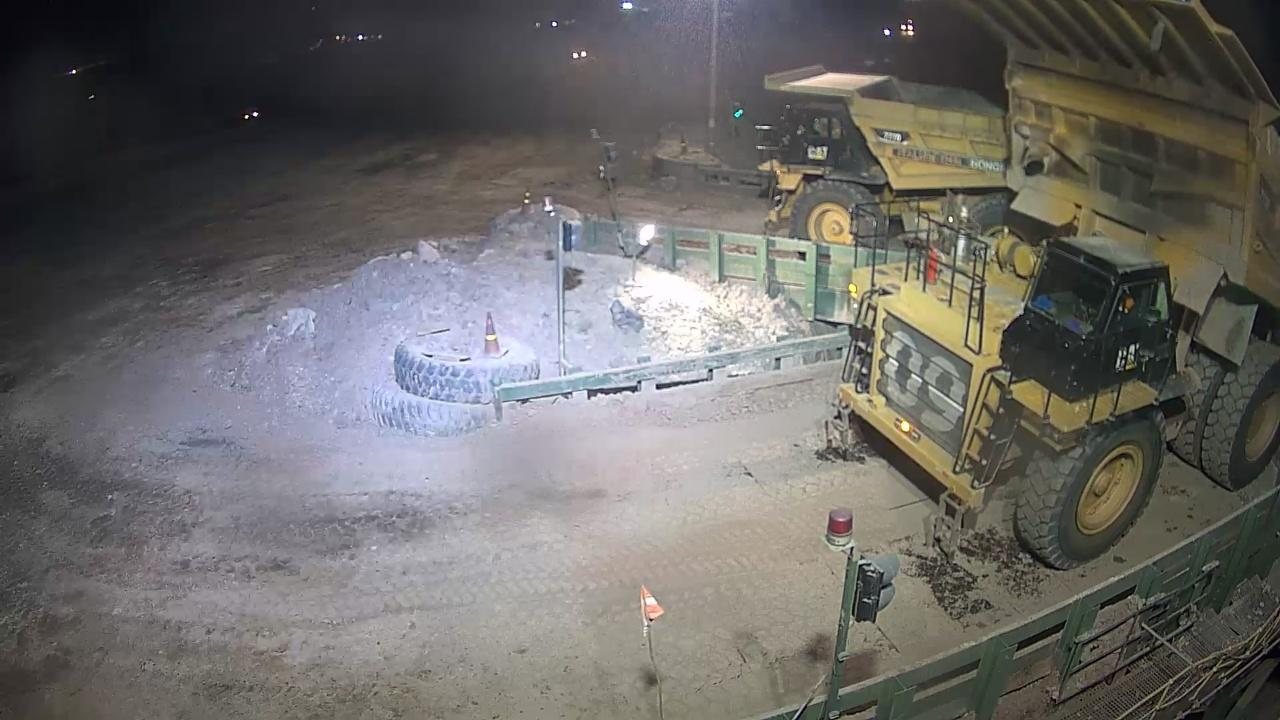dumping_soil: (849, 0, 1280, 570)
front_number: (878, 331, 970, 444)
mining_truck: (727, 40, 1034, 262)
